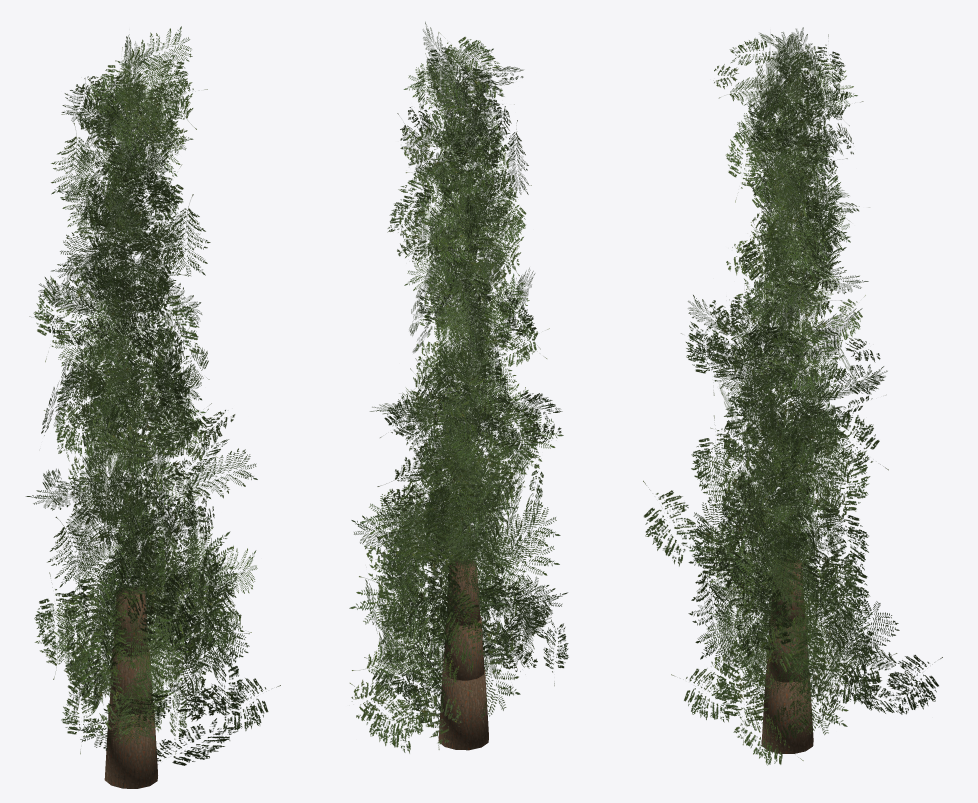
File: cypress_3.glb
The picture shows the model from 3 angles, left to right: view 1: azimuth 30°, elevation 25°; view 2: azimuth 150°, elevation 25°; view 3: azimuth 270°, elevation 25°; orthographic projection. The views are drawn at different scales.
Visible parts, largest first — view 1: cypress; view 2: cypress; view 3: cypress.
Boxes of the visible parts, bbox=[...] form: cypress: bbox=[26, 26, 280, 788]; cypress: bbox=[349, 22, 568, 753]; cypress: bbox=[643, 27, 942, 765].
Bounding box in the file's own units: 3 × 9.39 × 3.87.
Materials: 2 (2 with a texture image).
